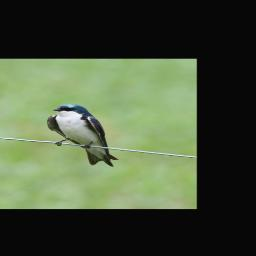Swallow: (31, 102, 139, 168)
